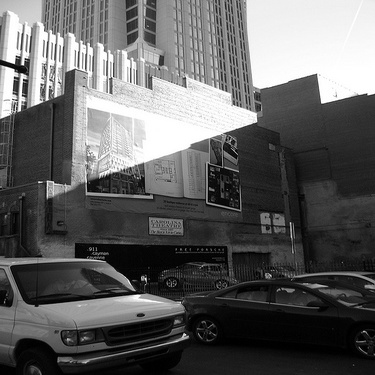car: (1, 258, 190, 373), (179, 281, 372, 363), (292, 266, 373, 297), (155, 268, 241, 294), (253, 260, 304, 281), (181, 257, 231, 276)
